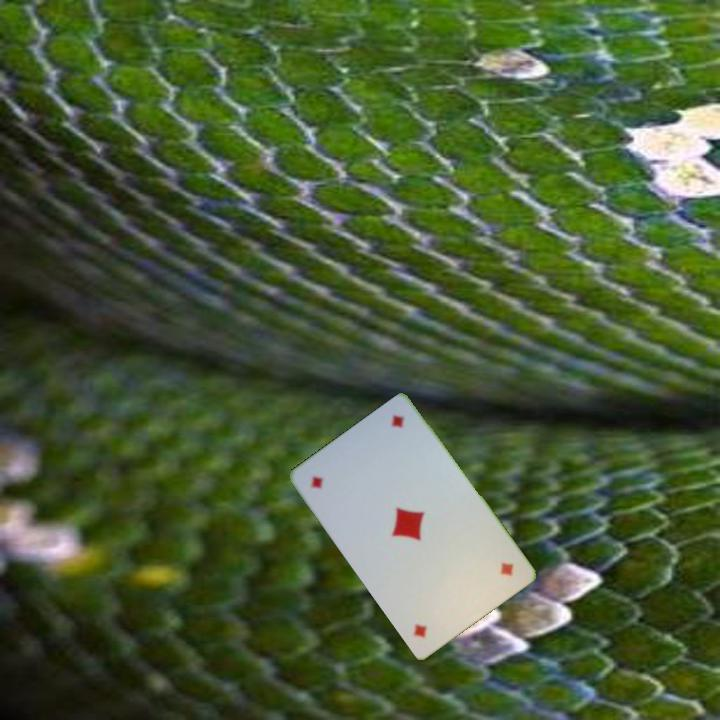d_a.png: (300, 439, 386, 523), (439, 528, 525, 612)
